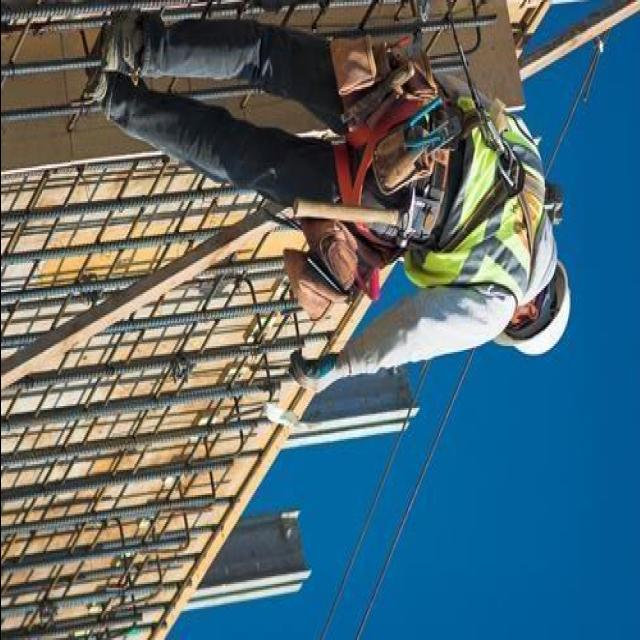helmet: (504, 259, 570, 381)
jacket: (404, 67, 534, 330)
